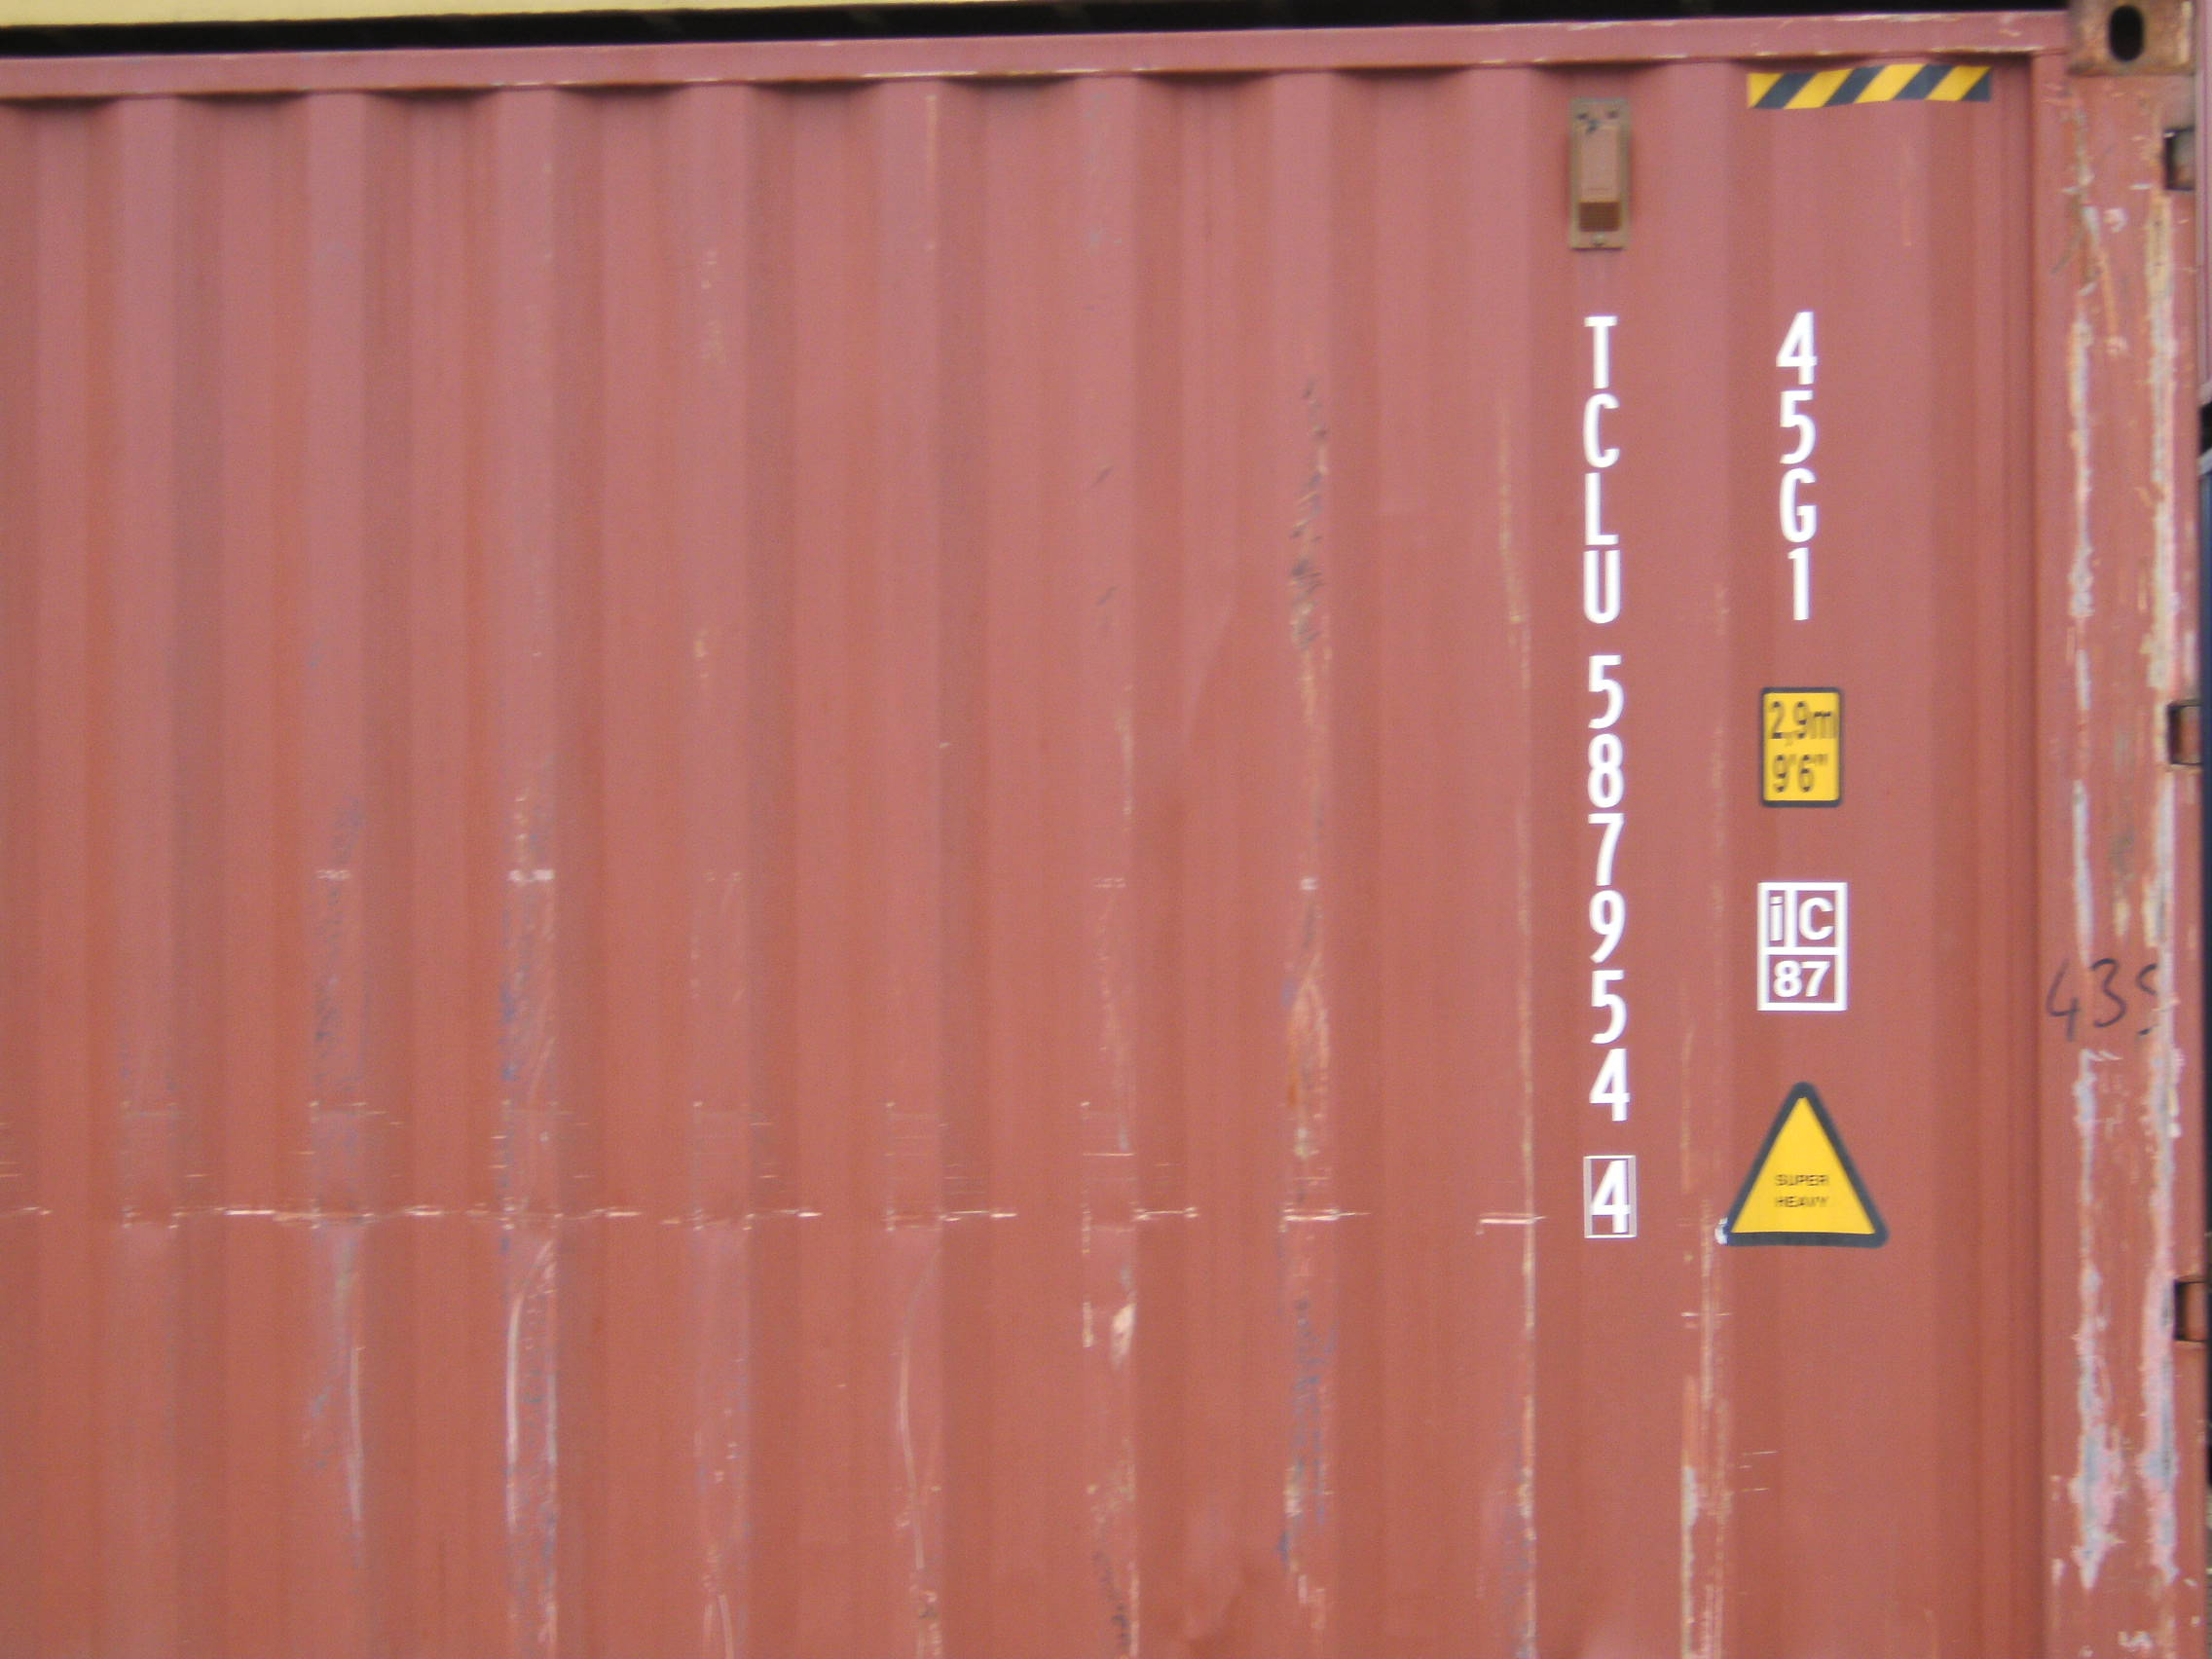container_no_door: (85, 117, 1939, 1628)
